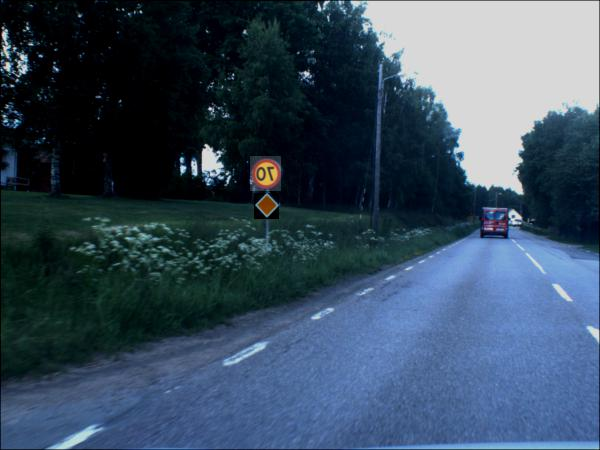70_SIGN: (250, 157, 282, 193)
PRIORITY_ROAD: (254, 194, 280, 221)
WARNING: (468, 213, 474, 218)
